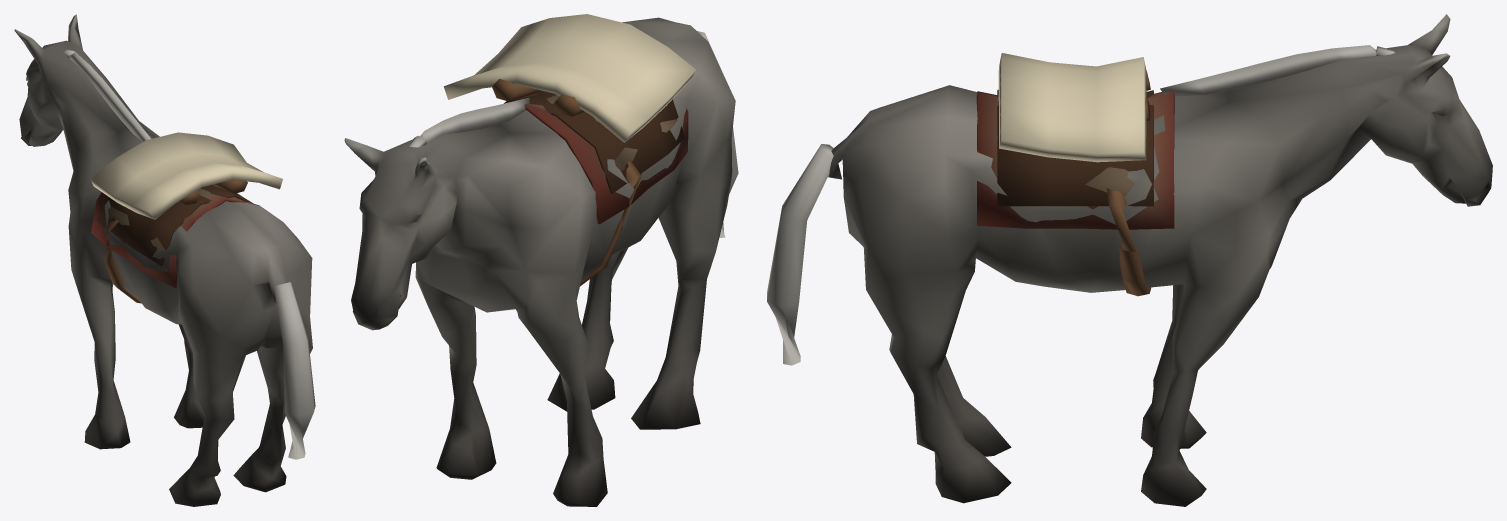
File: caballo_criollo_tordillo_lod.glb
The picture shows the model from 3 angles, left to right: view 1: azimuth 30°, elevation 25°; view 2: azimuth 150°, elevation 25°; view 3: azimuth 270°, elevation 25°; orthographic projection. The views are drawn at different scales.
Parts seen in each view (by area): view 1: caballo_criollo_tordillo_lod; view 2: caballo_criollo_tordillo_lod; view 3: caballo_criollo_tordillo_lod.
Part boxes in pixels (x1,y1,x2,y2): caballo_criollo_tordillo_lod: [14, 14, 315, 506]; caballo_criollo_tordillo_lod: [344, 14, 738, 506]; caballo_criollo_tordillo_lod: [767, 14, 1492, 506].
Size of the model in its own units: 0.7471 by 1.66 by 2.51.
